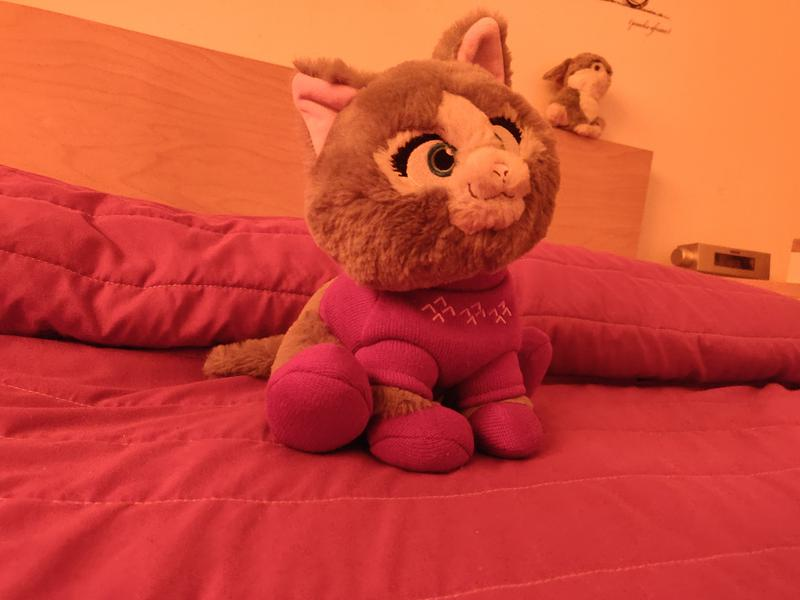kitten: (201, 1, 632, 473)
